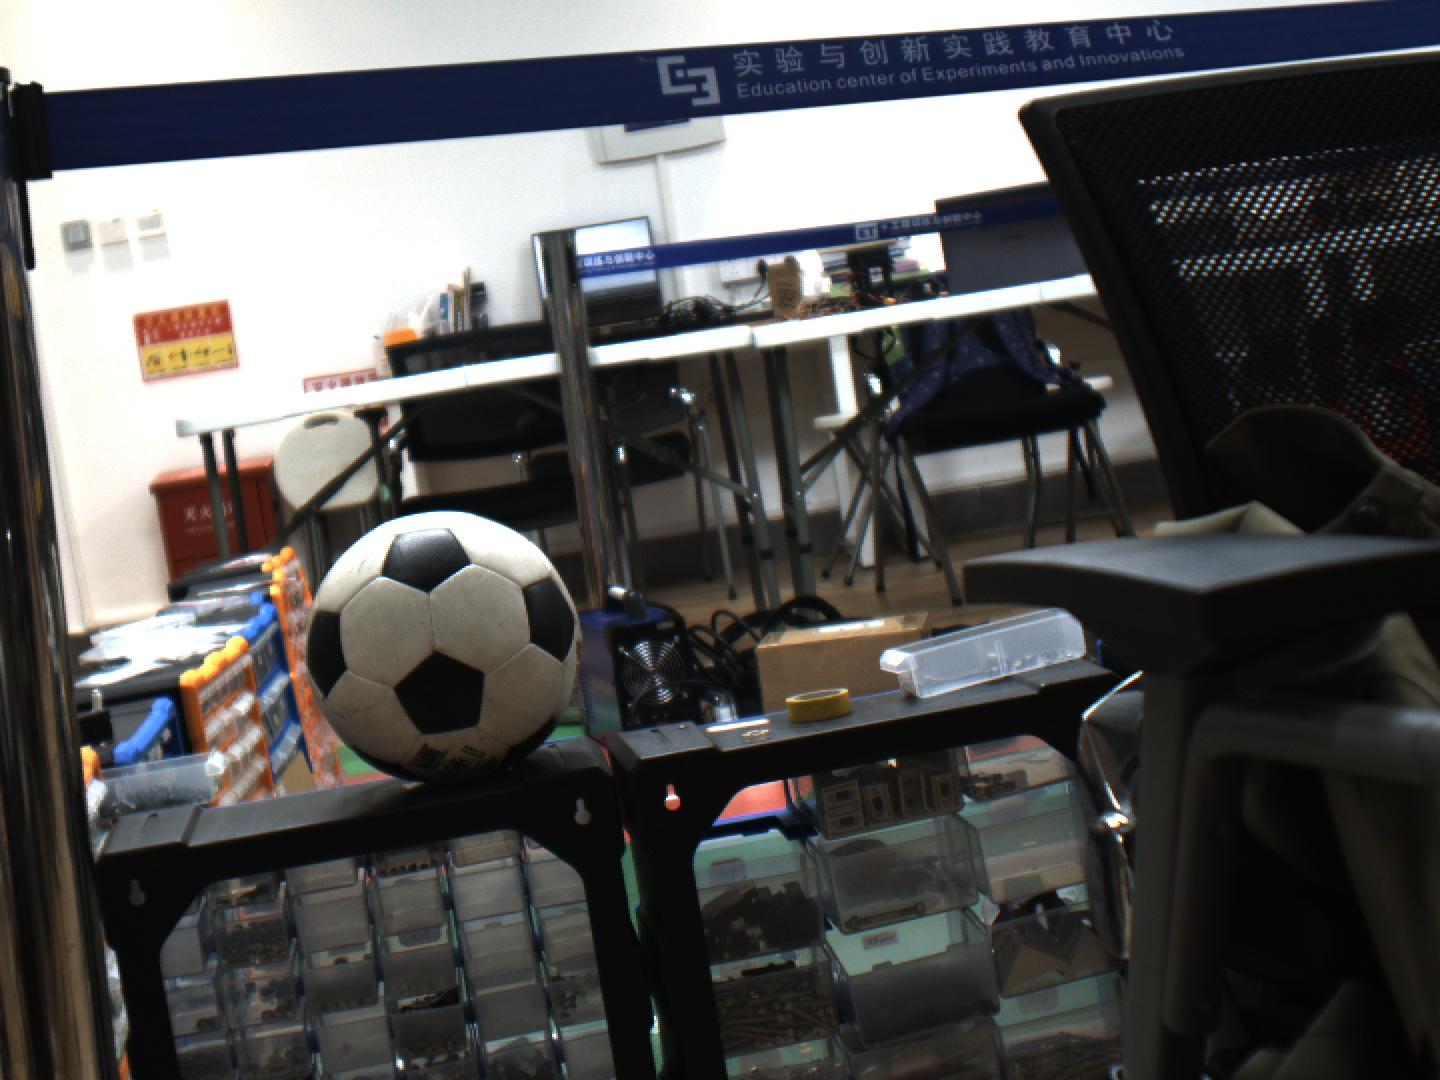ball: (288, 503, 608, 790)
